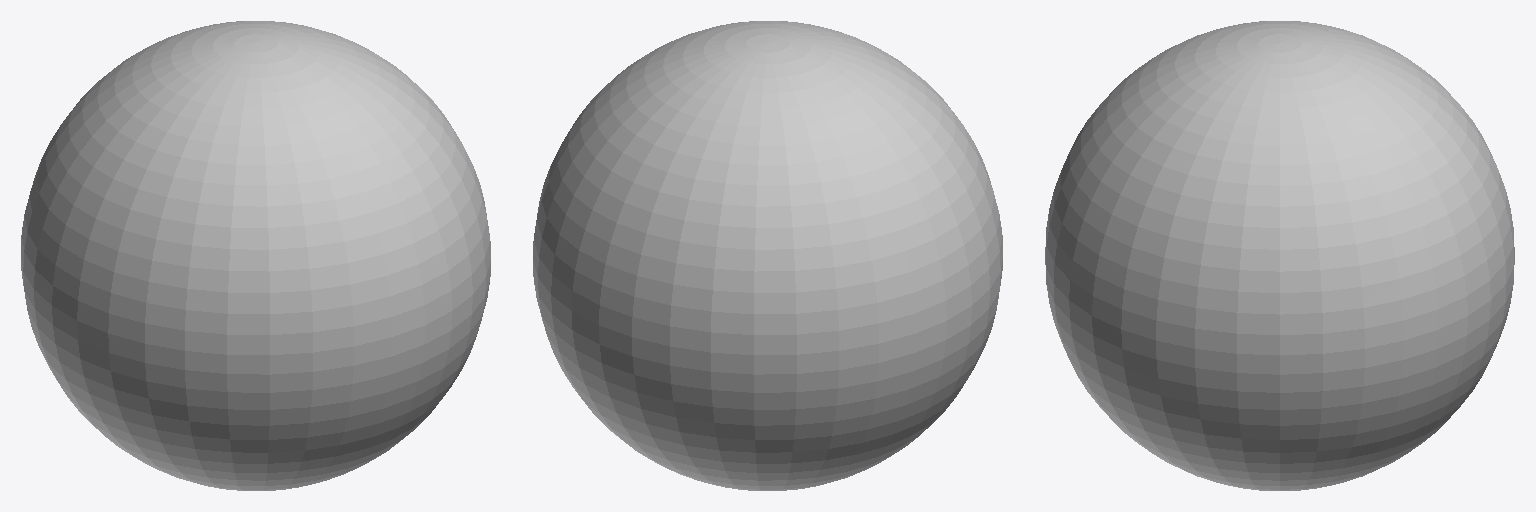
The model's file is invertedsphere.obj.
3 renders of one model, left to right at view 1: azimuth 30°, elevation 25°; view 2: azimuth 150°, elevation 25°; view 3: azimuth 270°, elevation 25°, orthographic.
Visible parts, largest first — view 1: pSphere1; view 2: pSphere1; view 3: pSphere1.
Part boxes in pixels (left/top/right/bottom): pSphere1: left=21, top=21, right=490, bottom=490; pSphere1: left=533, top=21, right=1002, bottom=490; pSphere1: left=1045, top=21, right=1514, bottom=490.
Bounding box in the file's own units: 2 × 2 × 1.99.